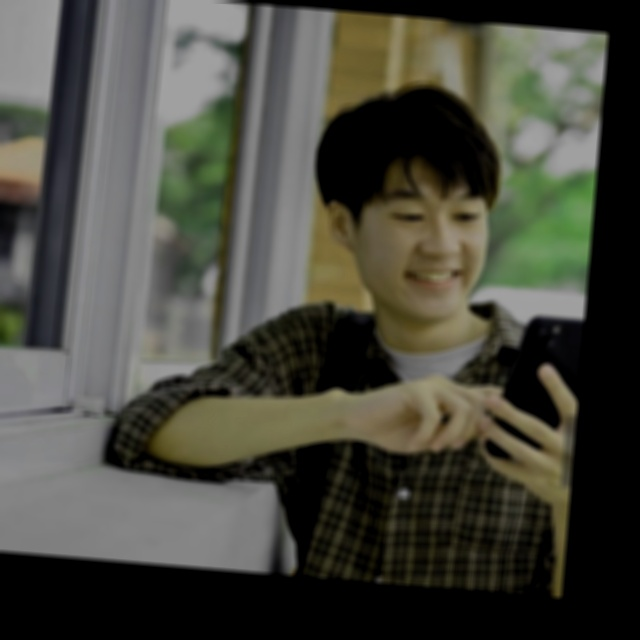Sin_Casco_Mascarrilla: (305, 70, 511, 323)
